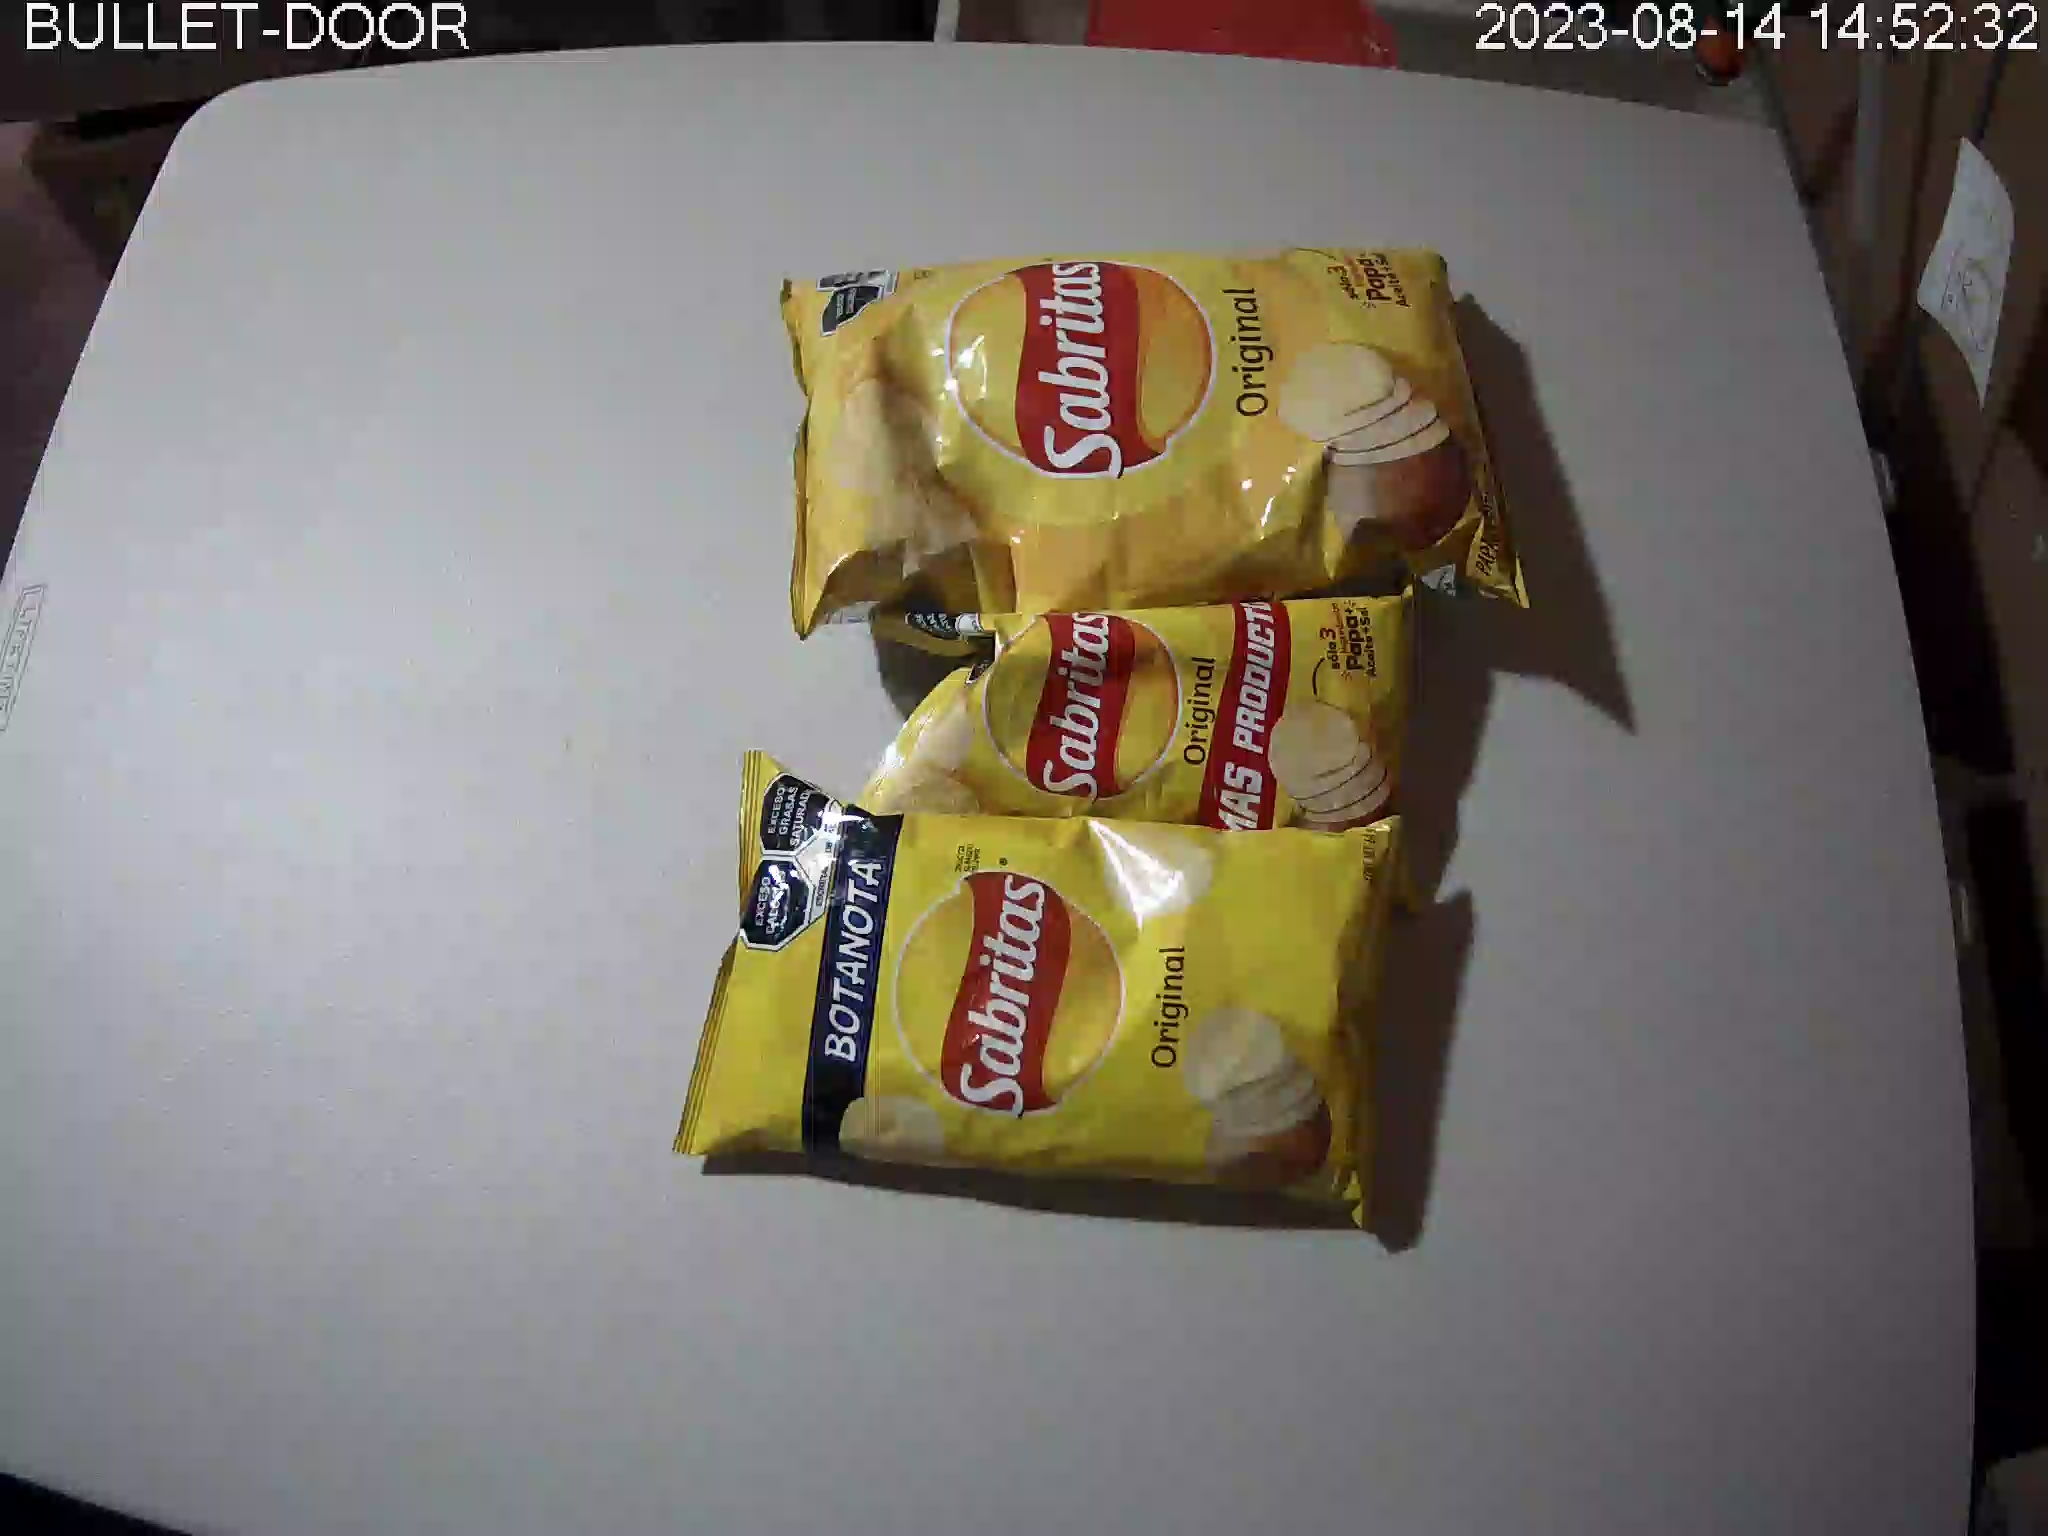Sabritas_160_F: (780, 245, 1532, 641)
Sabritas_45_F: (853, 587, 1432, 928)
Sabritas_64_F: (671, 747, 1408, 1233)
